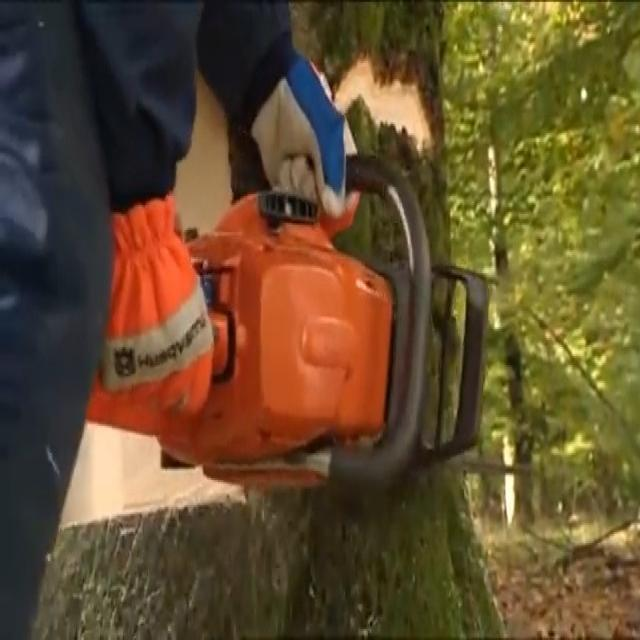Chainsaw: (87, 129, 525, 510)
